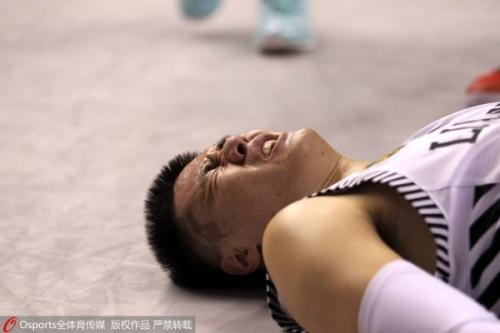falling: (145, 35, 497, 328)
